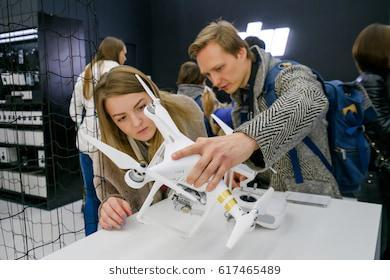drone: (77, 77, 283, 234)
